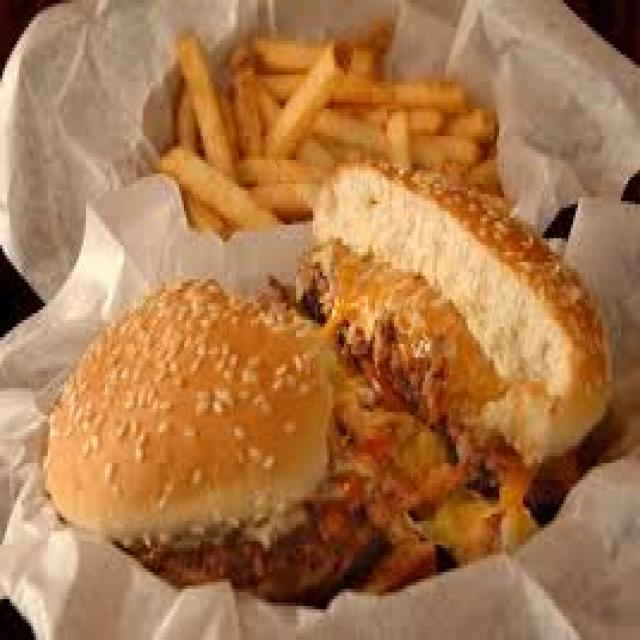Burger: (46, 157, 600, 606)
French Fries: (156, 13, 514, 232)
